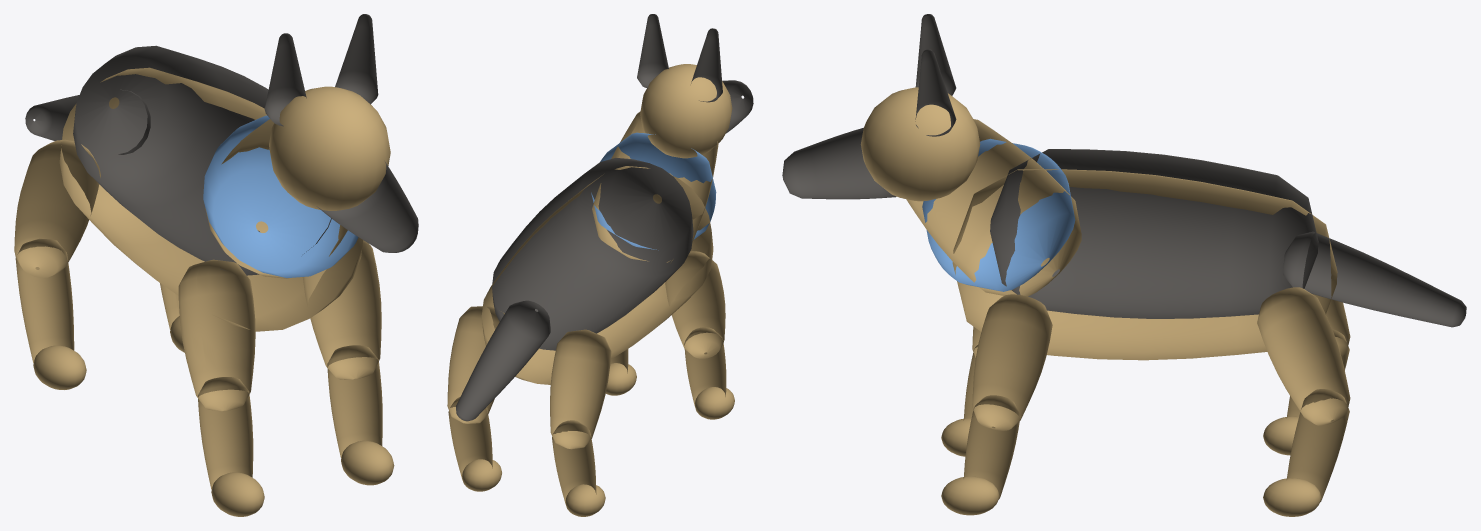
Rendered from dog.glb.
3 views of the same model, side by side, from view 1: azimuth 30°, elevation 25°; view 2: azimuth 150°, elevation 25°; view 3: azimuth 270°, elevation 25° (orthographic). The views are drawn at different scales.
Visible parts, largest first — view 1: Hull; view 2: Hull; view 3: Hull.
Part boxes in pixels (x1,y1,x2,y2): Hull: (14,14,418,516); Hull: (447,14,753,516); Hull: (782,14,1466,516).
Size of the model in its own units: 0.2453 by 0.5849 by 0.8037.
